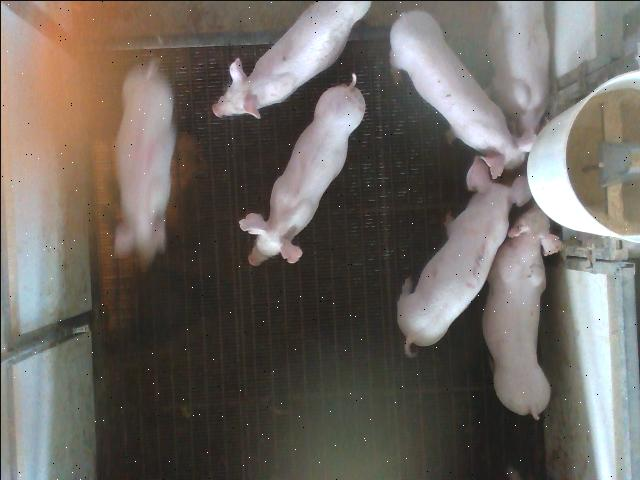pig-3: (396, 157, 530, 356)
